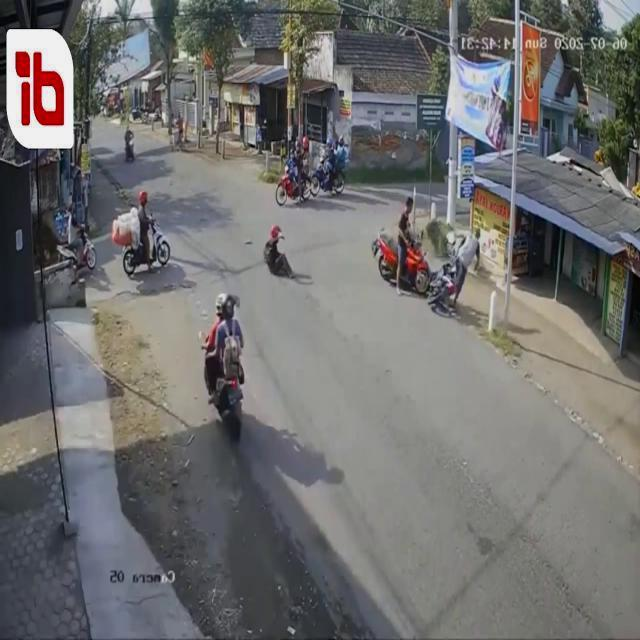accident: (369, 198, 483, 314)
non-accident: (54, 188, 170, 288), (274, 135, 352, 205)
